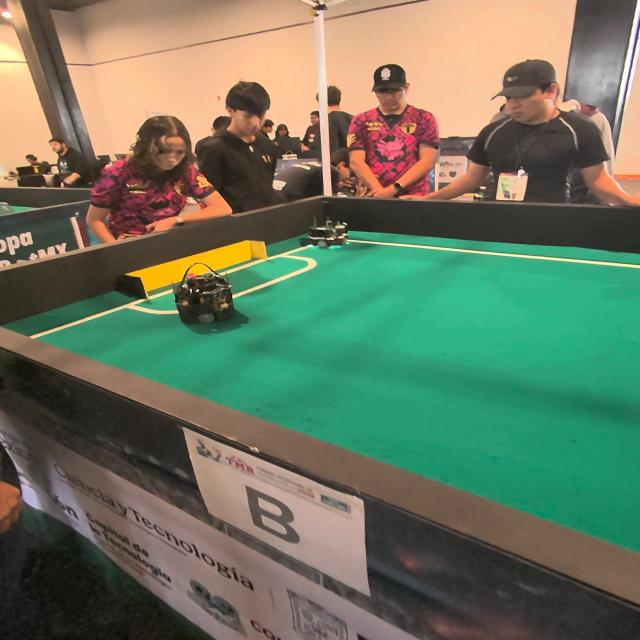Robot: (172, 259, 244, 332), (306, 197, 352, 250)
